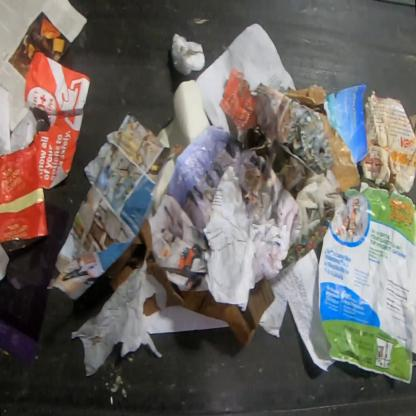cardboard: (102, 218, 275, 350), (359, 88, 415, 198), (318, 112, 362, 194), (284, 84, 327, 106), (144, 294, 160, 316)
soft_plastic: (0, 133, 49, 253)
